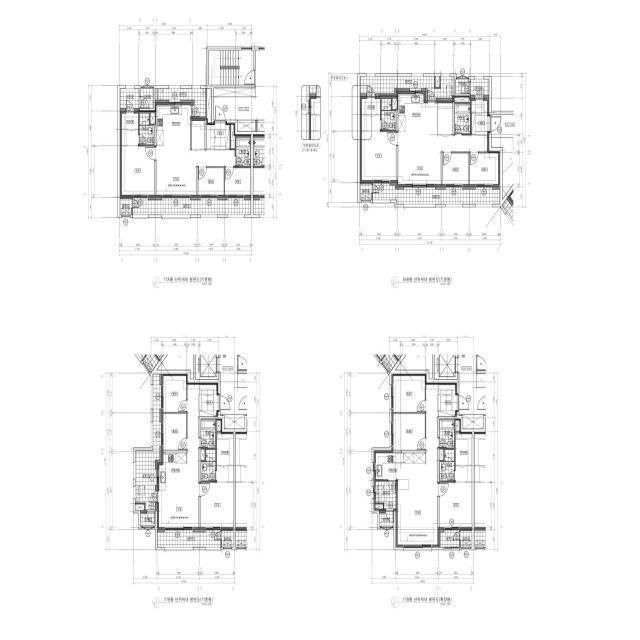space_balconi: (135, 374, 161, 510), (373, 183, 500, 204), (360, 76, 454, 101), (133, 198, 251, 215), (155, 89, 206, 117), (157, 530, 221, 547), (159, 453, 187, 490), (376, 481, 396, 509), (120, 88, 139, 111), (471, 79, 489, 98), (440, 530, 459, 547)
space_bedroom: (360, 131, 396, 180), (120, 146, 154, 197), (439, 483, 472, 530), (201, 482, 233, 529), (393, 376, 425, 412), (393, 414, 425, 450), (161, 374, 186, 412), (470, 153, 500, 184), (162, 414, 186, 450), (443, 153, 469, 184), (225, 168, 251, 197), (198, 168, 224, 197)
space_dressroom: (455, 432, 472, 481), (360, 99, 380, 130), (120, 111, 138, 145), (217, 432, 233, 465), (217, 466, 233, 481)
space_elevator: (434, 354, 457, 379), (196, 354, 218, 379)
space_elevator_hall: (459, 354, 476, 414), (220, 355, 237, 414), (214, 97, 256, 120), (491, 114, 514, 137)
space_front: (207, 121, 230, 150), (199, 393, 219, 416), (438, 393, 458, 416), (471, 113, 490, 135)
space_kitchen: (374, 446, 426, 480), (398, 94, 437, 135), (156, 103, 190, 150)
space_living_room: (396, 384, 439, 547), (157, 383, 199, 529), (398, 135, 489, 184), (156, 150, 235, 197)
space_other: (438, 101, 453, 134), (190, 118, 205, 150), (459, 415, 486, 429), (220, 415, 247, 429), (214, 88, 255, 97), (379, 510, 394, 526), (141, 88, 153, 108), (237, 120, 255, 131), (456, 79, 469, 94), (472, 101, 489, 112), (141, 513, 155, 526), (200, 383, 218, 393), (439, 383, 457, 393), (207, 88, 211, 123), (231, 125, 235, 148), (455, 97, 470, 102), (455, 419, 461, 431), (217, 419, 222, 431), (150, 113, 155, 124), (392, 98, 397, 109), (374, 504, 383, 510), (135, 504, 144, 510), (201, 449, 205, 460), (436, 76, 440, 87), (440, 449, 443, 460)
space_outdoor_room: (360, 184, 372, 200), (222, 531, 233, 547), (461, 531, 472, 547), (120, 199, 131, 215)
space_staircase: (209, 50, 253, 85)
space_toilet: (201, 449, 216, 481), (139, 113, 154, 145), (381, 98, 396, 130), (455, 103, 470, 134), (440, 449, 454, 481), (201, 419, 216, 448), (236, 137, 251, 166), (440, 419, 454, 448)
